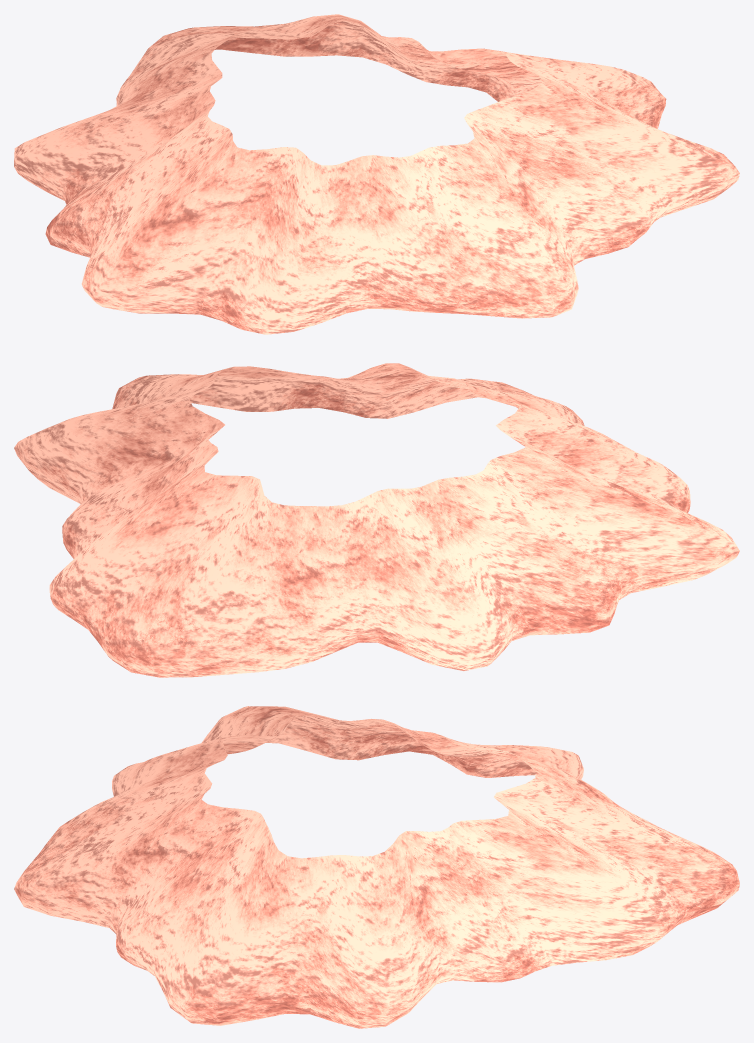
File: devil_skirt_c.glb
The picture shows the model from 3 angles, top to bottom: view 1: azimuth 30°, elevation 25°; view 2: azimuth 150°, elevation 25°; view 3: azimuth 270°, elevation 25°; orthographic projection. The views are drawn at different scales.
Visible parts, largest first — view 1: devil_skirt_c; view 2: devil_skirt_c; view 3: devil_skirt_c.
Boxes of the visible parts, x1,y1,x2,y2 form: devil_skirt_c: (14,14,739,334); devil_skirt_c: (14,363,739,677); devil_skirt_c: (14,706,739,1028).
Bounding box in the file's own units: 24.59 × 3.8 × 24.81.
1 material, 1 textured.
